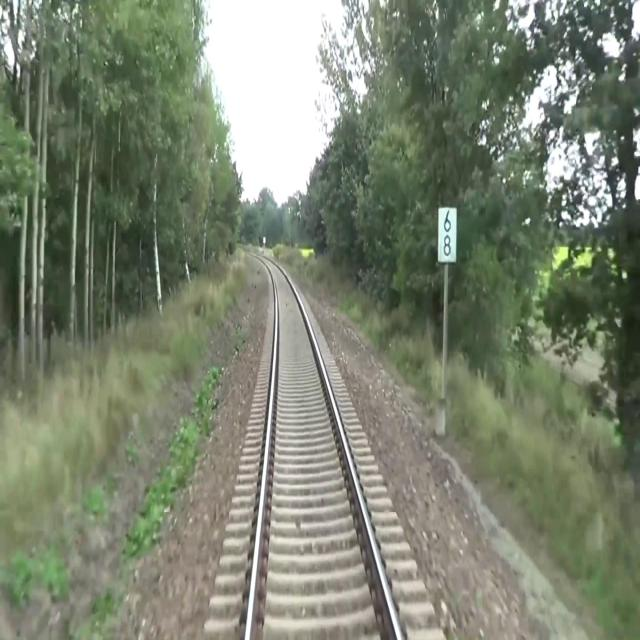rail-track: (249, 254, 397, 639)
